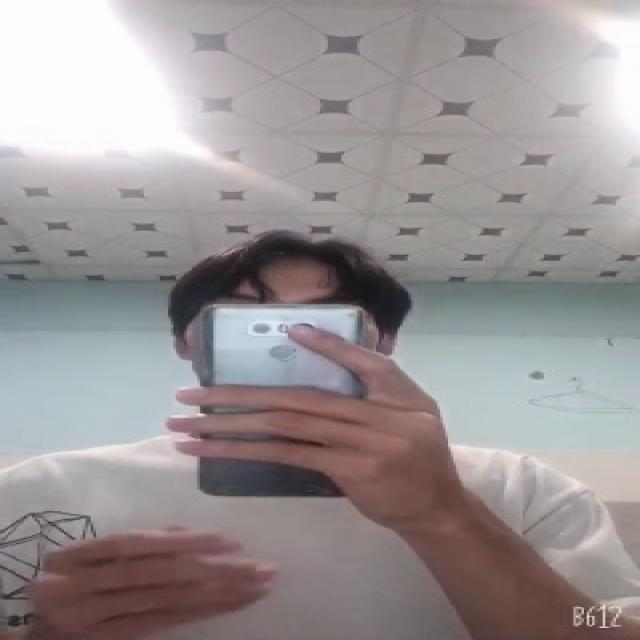Phone: (195, 303, 370, 499)
